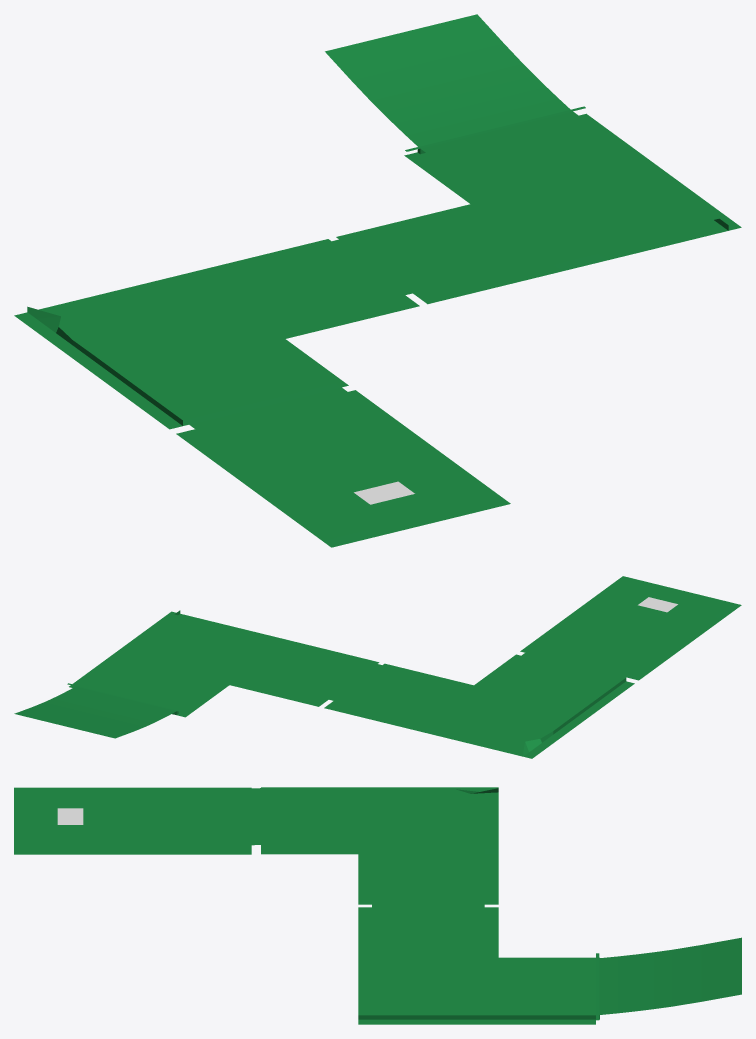
File: CourseGreen1.fbx
3 views of the same model, one above another, from view 1: azimuth 30°, elevation 25°; view 2: azimuth 150°, elevation 25°; view 3: azimuth 270°, elevation 25° (orthographic). The views are drawn at different scales.
Parts seen in each view (by area): view 1: Cube.008; view 2: Cube.008; view 3: Cube.008.
Boxes of the visible parts, box(x1,y1,x2,y2) form: Cube.008: box(14, 14, 741, 547); Cube.008: box(14, 576, 741, 758); Cube.008: box(14, 787, 741, 1024).
Size of the model in its own units: 1063 by 52.38 by 1379.
